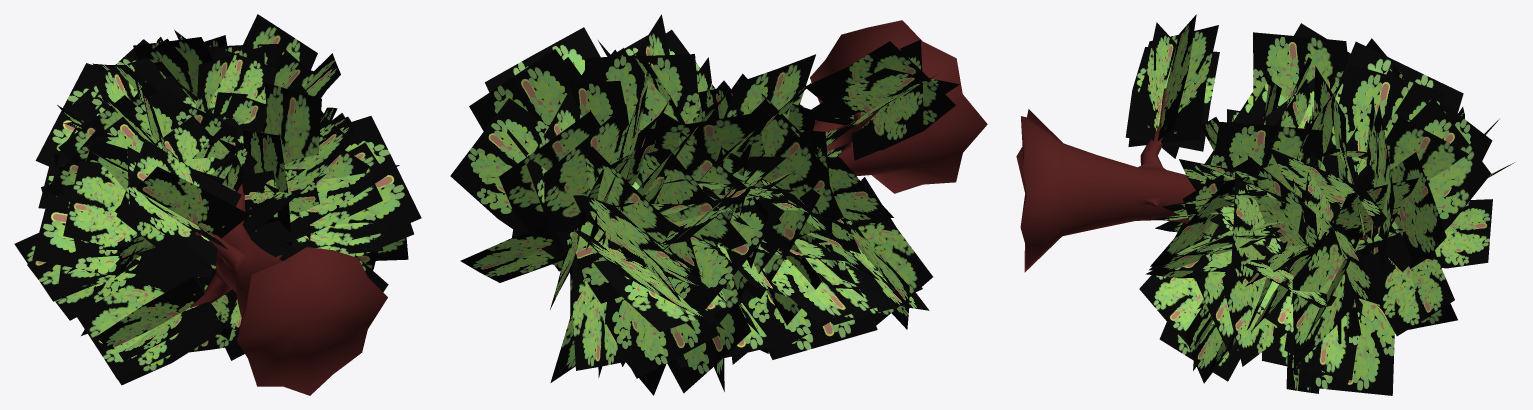
Rendered from Tree.fbx.
The picture shows the model from 3 angles, left to right: view 1: azimuth 30°, elevation 25°; view 2: azimuth 150°, elevation 25°; view 3: azimuth 270°, elevation 25°; orthographic projection. The views are drawn at different scales.
Visible parts, largest first — view 1: Tree; view 2: Tree; view 3: Tree.
Boxes of the visible parts, box(x1,y1,x2,y2) form: Tree: box(14, 14, 421, 395); Tree: box(450, 14, 987, 395); Tree: box(1016, 14, 1514, 395).
Size of the model in its own units: 12.26 by 10.73 by 15.15.
